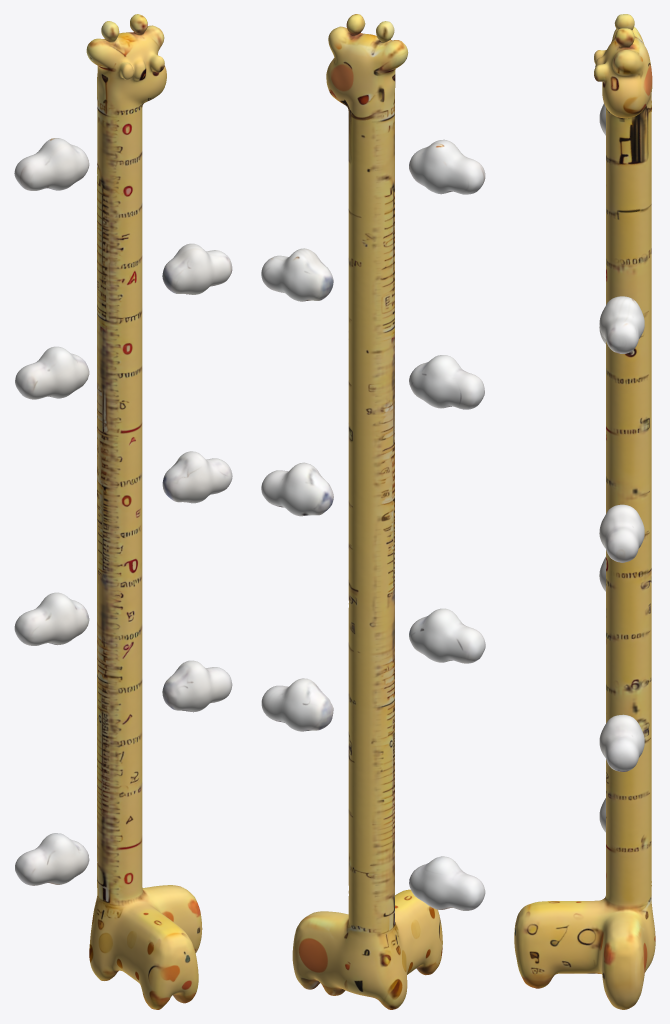
The picture shows the model from 3 angles, left to right: view 1: azimuth 30°, elevation 25°; view 2: azimuth 150°, elevation 25°; view 3: azimuth 270°, elevation 25°; orthographic projection. The views are drawn at different scales.
Visible parts, largest first — view 1: model; view 2: model; view 3: model.
Boxes of the visible parts, bbox=[...] form: model: bbox=[14, 14, 232, 1009]; model: bbox=[261, 14, 485, 1009]; model: bbox=[514, 14, 655, 1009].
Bounding box in the file's own units: 39.74 × 172 × 22.96.
1 material, 1 textured.
